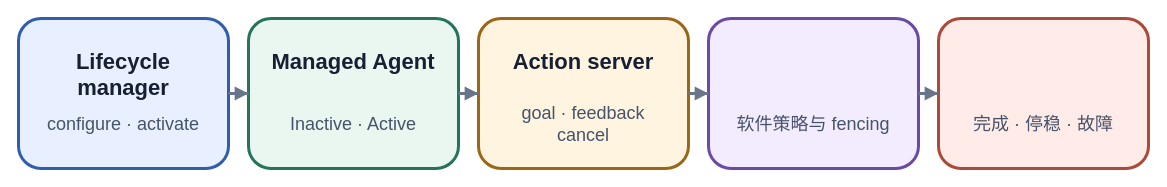
Some shapes in this 1167 by 187 pixel diagram are drawn without their labels. Each missing label, with the box of its shape:
设备真实状态: (936, 16, 1150, 170)
驱动器命令: (706, 16, 920, 170)
